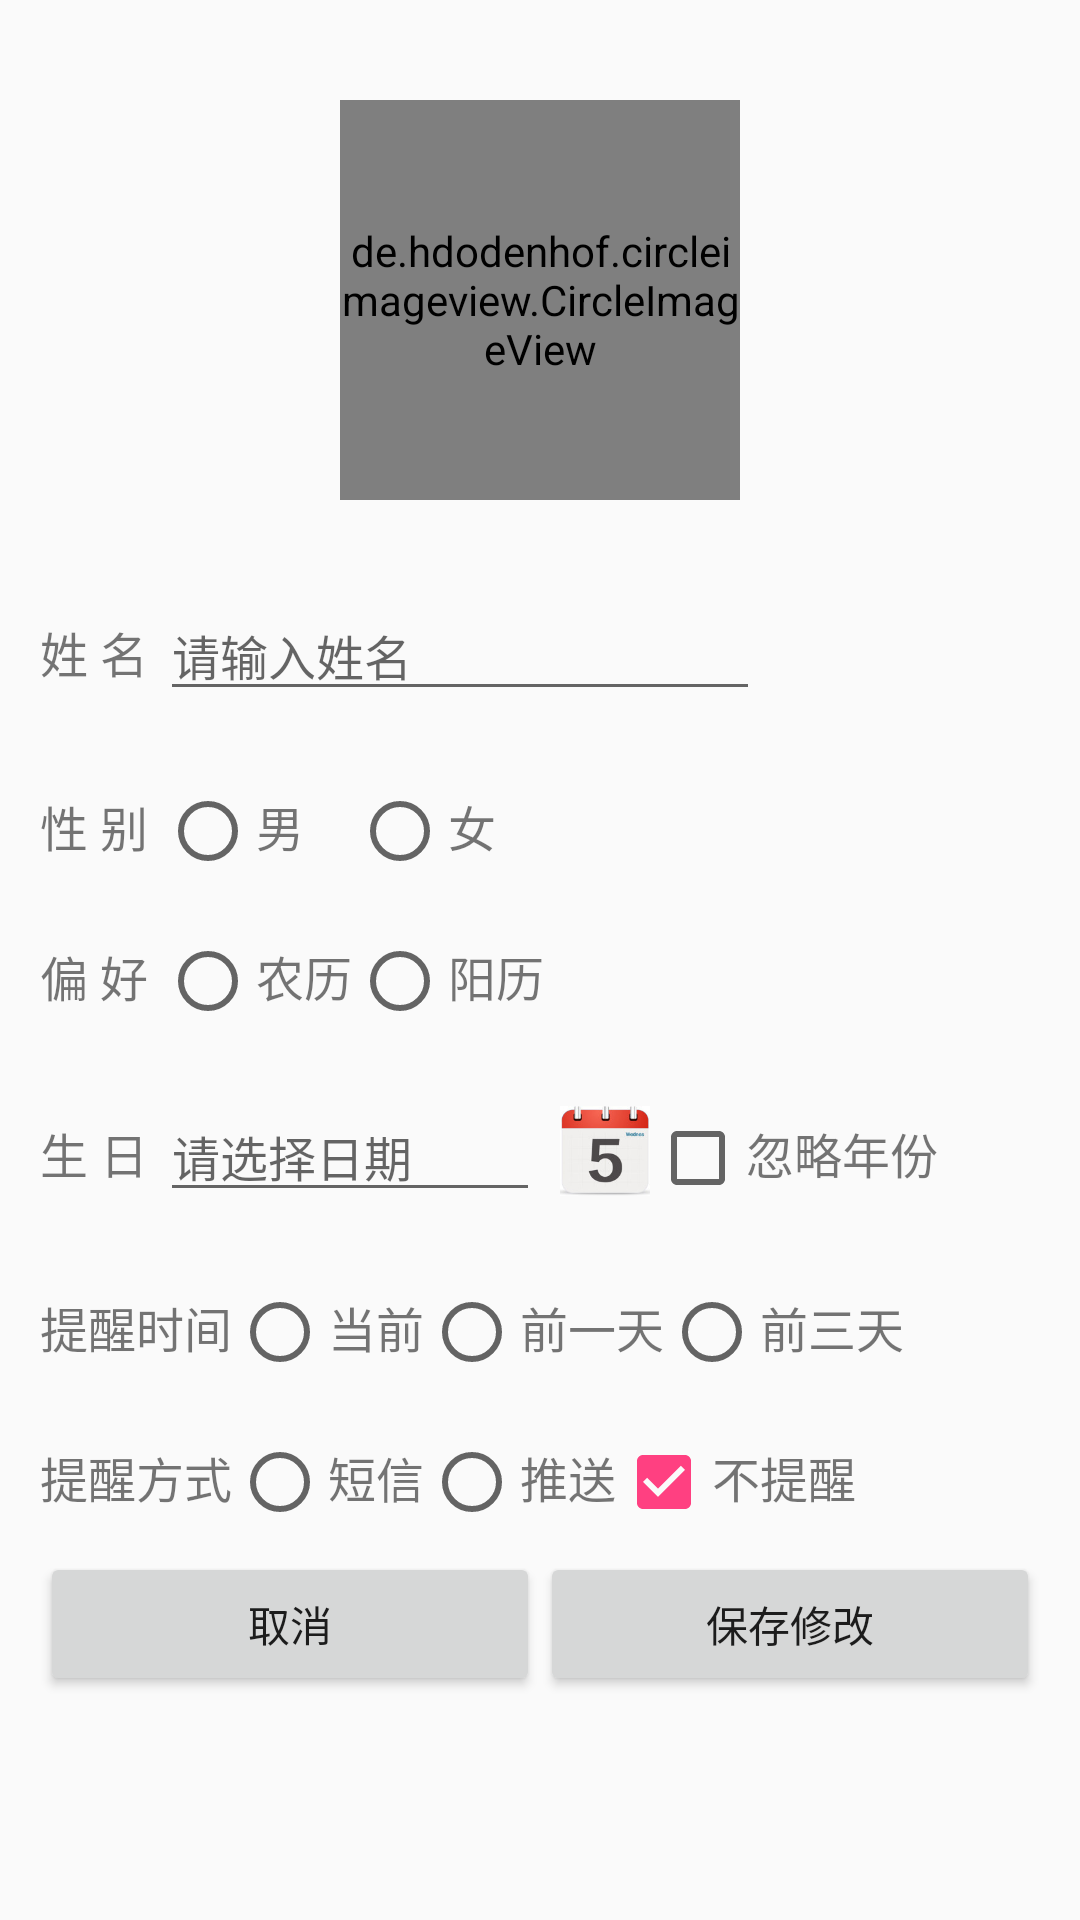

Point at icon controls on the screen. Image size 1080px x 1920px, points as point (x, y).
calenda: point (605, 1151)
